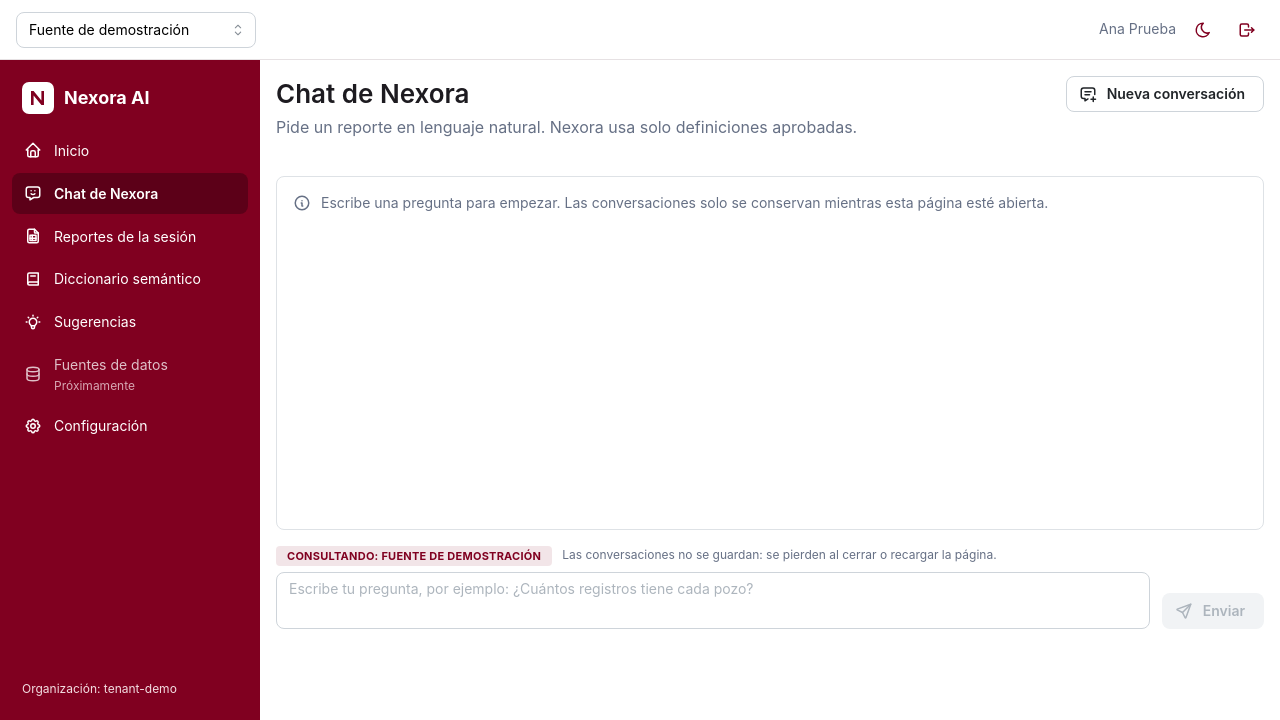
Test case: chat with Nexora (F2/F3/F4 flows, synthetic) › F2: answers a governed clarification with a new key and receives the Excel
Step 1. Type "¿Cuántos hay por estado?" into the text box labelled "Escribe tu pregunta" → (713, 600), box [276,572,1150,629]
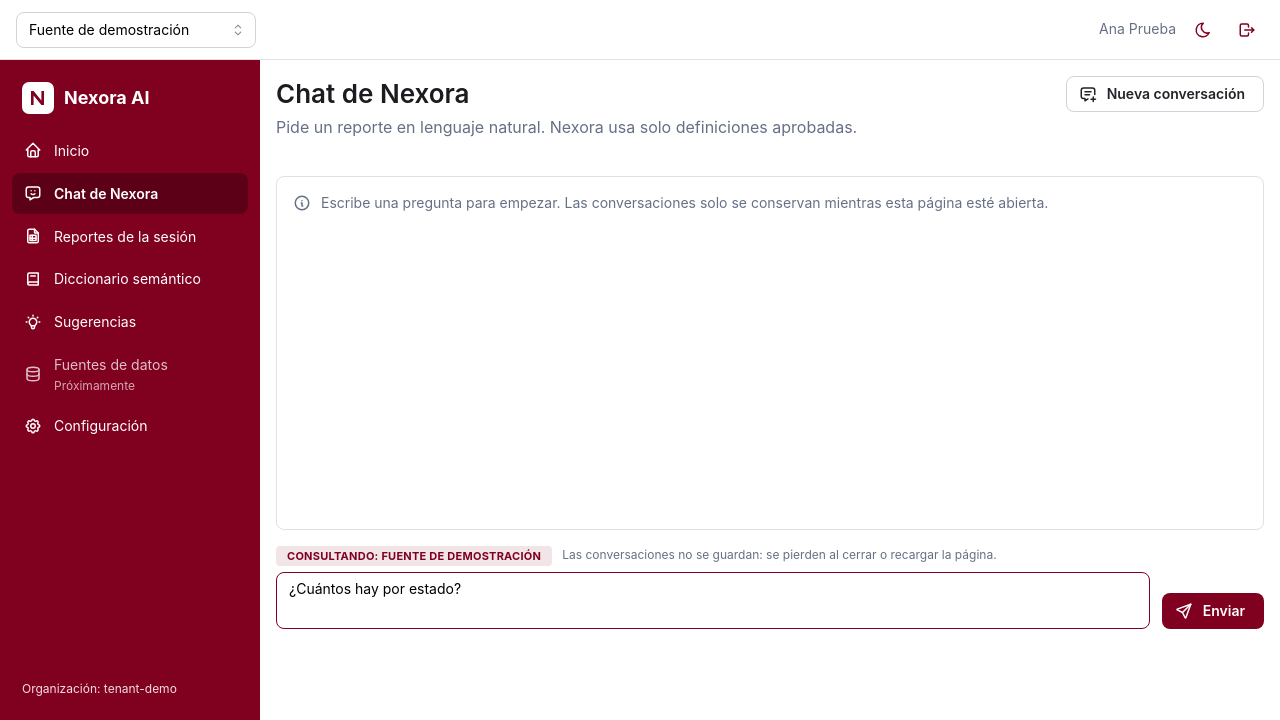
Step 2. Click the button "Enviar" → (1213, 611), box [1162,593,1264,629]
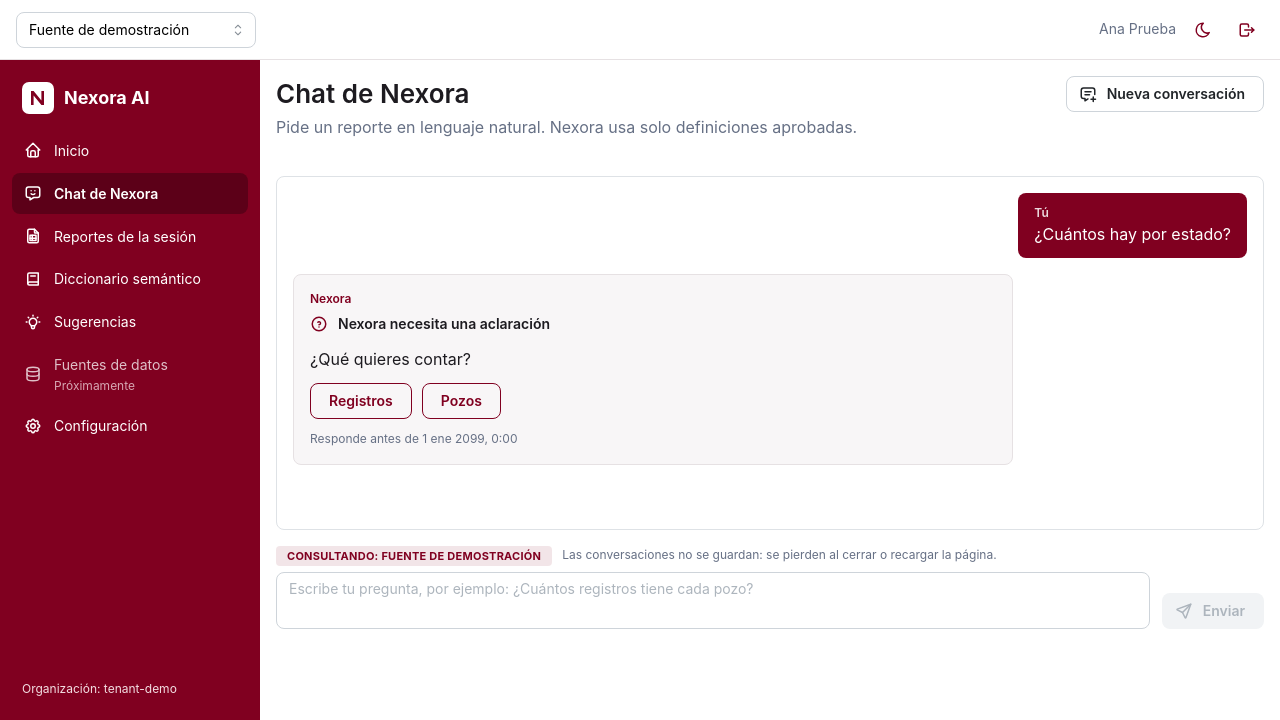
Step 3. Click the button "Pozos" → (461, 401), box [422,383,501,419]
(page scrolled)
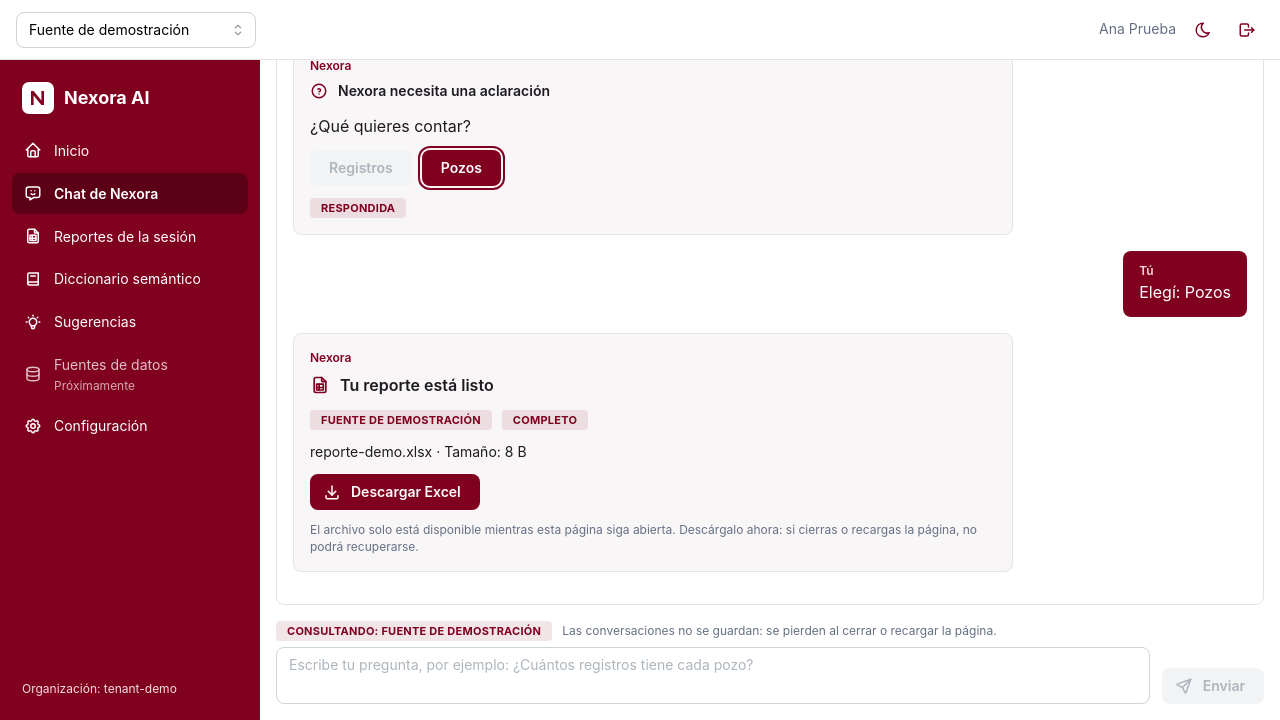
expect the text "Tu reporte está listo" is shown: met, box [340,373,494,398]
